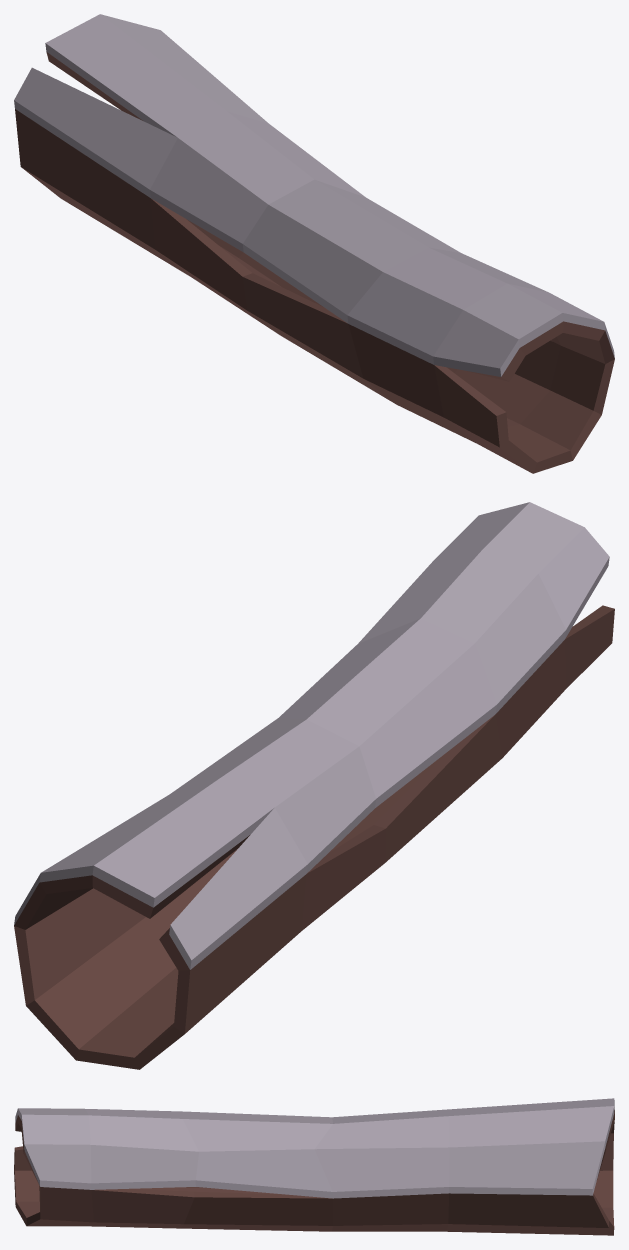
Rendered from WoodLog_Snow.gltf.
3 renders of one model, top to bottom at view 1: azimuth 30°, elevation 25°; view 2: azimuth 150°, elevation 25°; view 3: azimuth 270°, elevation 25°, orthographic. The views are drawn at different scales.
Parts seen in each view (by area): view 1: WoodLog_Snow; view 2: WoodLog_Snow; view 3: WoodLog_Snow.
Boxes of the visible parts, x1,y1,x2,y2 form: WoodLog_Snow: (14,14,614,473); WoodLog_Snow: (14,502,614,1069); WoodLog_Snow: (14,1098,614,1235).
Size of the model in its own units: 0.6267 by 0.5842 by 2.49.
